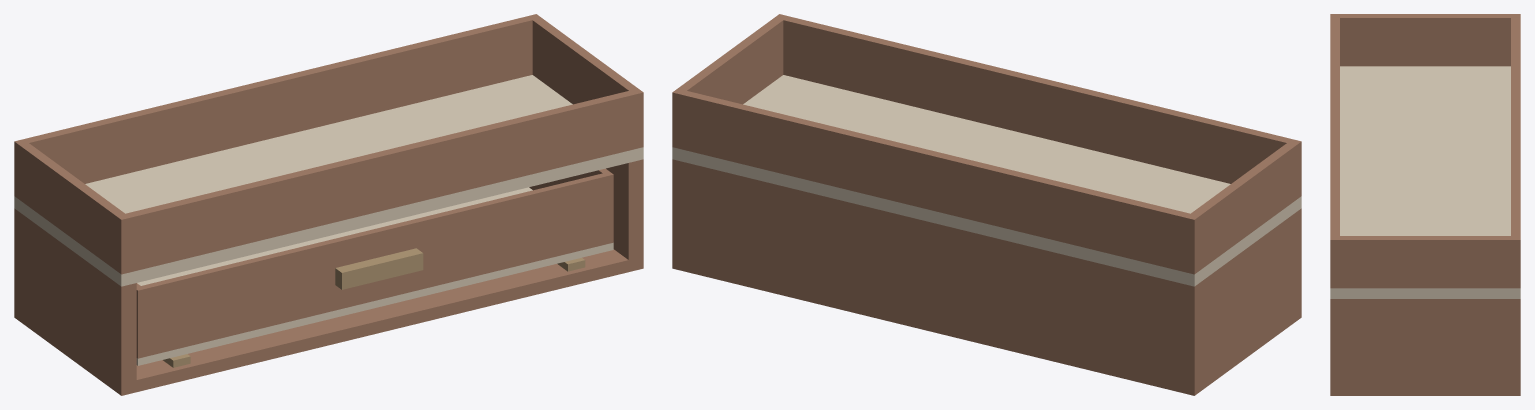
3 renders of one model, left to right at view 1: azimuth 30°, elevation 25°; view 2: azimuth 150°, elevation 25°; view 3: azimuth 270°, elevation 25°, orthographic. The views are drawn at different scales.
Visible parts, largest first — view 1: storage-drawer-front, storage-upper-front, storage-upper-back, storage-roof, storage-base, storage-side-left, storage-upper-left, storage-drawer-bottom, storage-upper-right, storage-side-right, storage-drawer-handle, storage-drawer-right (+1 smaller); view 2: storage-back, storage-upper-back, storage-upper-front, storage-roof, storage-side-left, storage-base, storage-upper-left, storage-upper-right, storage-side-right; view 3: storage-roof, storage-side-right, storage-upper-right, storage-upper-left, storage-upper-back, storage-upper-front, storage-base.
Part boxes in pixels (bbox=[...]): storage-drawer-front: bbox=[141, 173, 606, 356]; storage-upper-front: bbox=[126, 91, 634, 271]; storage-upper-back: bbox=[24, 16, 532, 183]; storage-roof: bbox=[14, 75, 643, 286]; storage-base: bbox=[14, 249, 643, 395]; storage-side-left: bbox=[14, 208, 136, 383]; storage-upper-left: bbox=[14, 139, 130, 274]; storage-drawer-bottom: bbox=[136, 187, 613, 365]; storage-upper-right: bbox=[527, 14, 643, 149]; storage-side-right: bbox=[606, 159, 643, 259]; storage-drawer-handle: bbox=[335, 248, 423, 289]; storage-drawer-right: bbox=[529, 168, 613, 243]; storage-back: bbox=[687, 163, 1179, 379]; storage-upper-back: bbox=[681, 91, 1189, 271]; storage-upper-front: bbox=[783, 16, 1291, 183]; storage-roof: bbox=[672, 75, 1301, 286]; storage-side-left: bbox=[1179, 208, 1301, 383]; storage-base: bbox=[672, 256, 1301, 395]; storage-upper-left: bbox=[1185, 139, 1301, 274]; storage-upper-right: bbox=[672, 14, 788, 149]; storage-side-right: bbox=[672, 159, 687, 259]; storage-roof: bbox=[1330, 66, 1520, 298]; storage-side-right: bbox=[1330, 299, 1520, 385]; storage-upper-right: bbox=[1330, 236, 1520, 288]; storage-upper-left: bbox=[1330, 14, 1520, 66]; storage-upper-back: bbox=[1511, 18, 1520, 235]; storage-upper-front: bbox=[1330, 18, 1339, 235]; storage-base: bbox=[1330, 385, 1520, 395].
Bounding box in the file's own units: 0.45 × 0.145 × 0.16.
